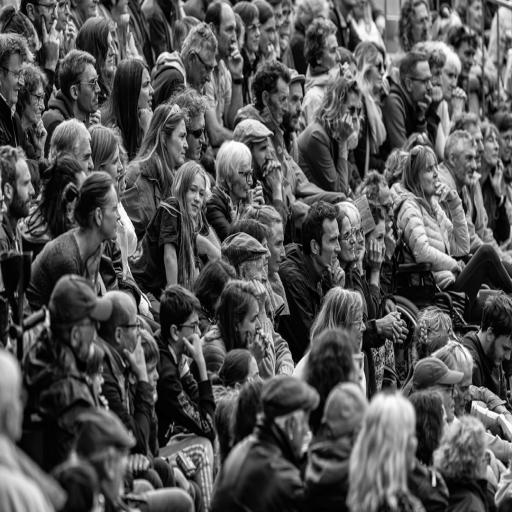face: (10, 158, 34, 218), (312, 219, 340, 270), (100, 147, 125, 201), (0, 53, 24, 108), (214, 4, 237, 59), (117, 297, 139, 354), (239, 242, 270, 282), (187, 50, 216, 91), (76, 64, 100, 113), (264, 78, 289, 125), (450, 141, 476, 186), (72, 318, 97, 363), (237, 299, 260, 347), (28, 0, 58, 36), (406, 61, 431, 104), (175, 311, 200, 352), (283, 82, 303, 132), (167, 120, 188, 167), (185, 172, 206, 219), (186, 113, 206, 161), (102, 186, 120, 239), (23, 82, 44, 126), (488, 328, 511, 366), (268, 223, 285, 273), (230, 165, 252, 203), (339, 217, 356, 265), (455, 372, 472, 417), (412, 3, 431, 43), (435, 385, 455, 423), (367, 52, 385, 94), (343, 92, 361, 133), (319, 34, 340, 69), (467, 124, 484, 167), (252, 138, 271, 176), (420, 158, 438, 198), (259, 17, 277, 56), (77, 133, 93, 174), (457, 42, 475, 78), (138, 69, 153, 110), (351, 218, 365, 260), (441, 65, 457, 101), (483, 131, 499, 166), (246, 17, 260, 53), (467, 0, 483, 31), (279, 0, 292, 37), (105, 33, 116, 75), (76, 0, 98, 21), (56, 0, 70, 31), (147, 365, 159, 401), (91, 367, 104, 396), (262, 239, 270, 282), (501, 129, 511, 161), (273, 2, 283, 29), (431, 66, 442, 87)
